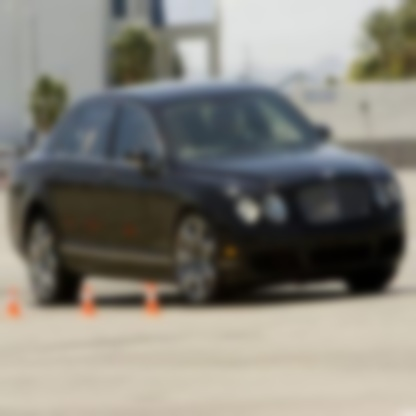Vehicle: (9, 81, 406, 309)
